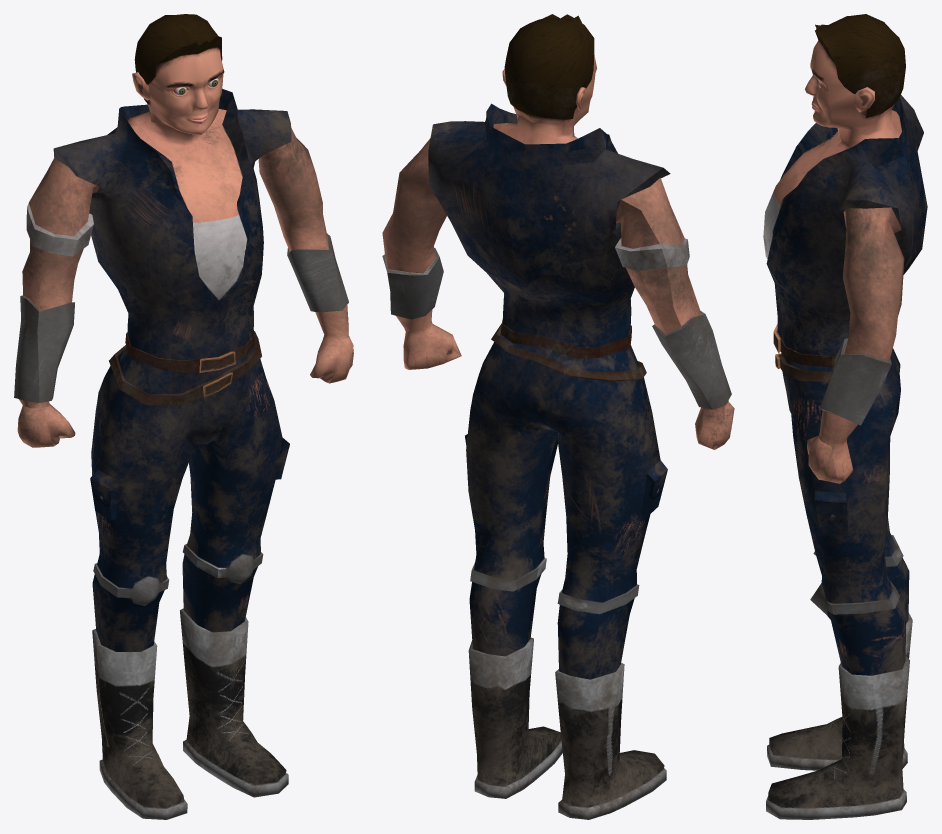
File: Anim_coger_objeto_jugador.0014.obj
The picture shows the model from 3 angles, left to right: view 1: azimuth 30°, elevation 25°; view 2: azimuth 150°, elevation 25°; view 3: azimuth 270°, elevation 25°; orthographic projection.
Parts seen in each view (by area): view 1: polySurface1; view 2: polySurface1; view 3: polySurface1.
Boxes of the visible parts, x1,y1,x2,y2 form: polySurface1: (14,14,353,819); polySurface1: (382,14,734,819); polySurface1: (763,14,927,819).
Size of the model in its own units: 4.4 by 9.64 by 1.87.
